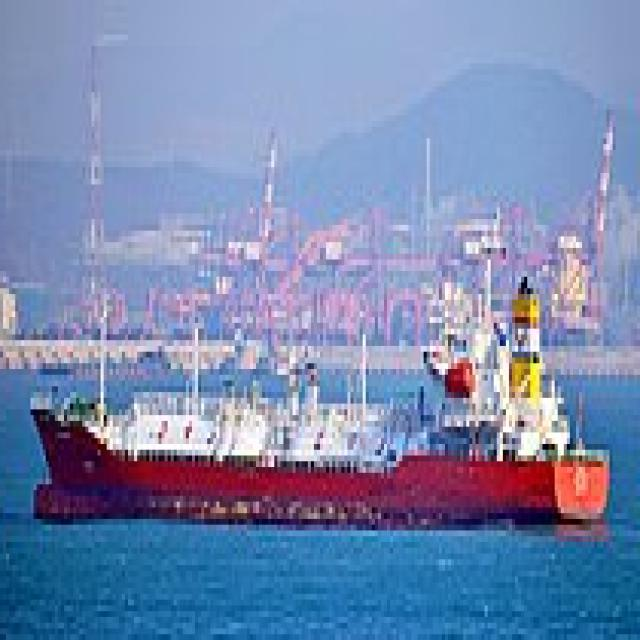Tanker: (31, 260, 618, 524)
